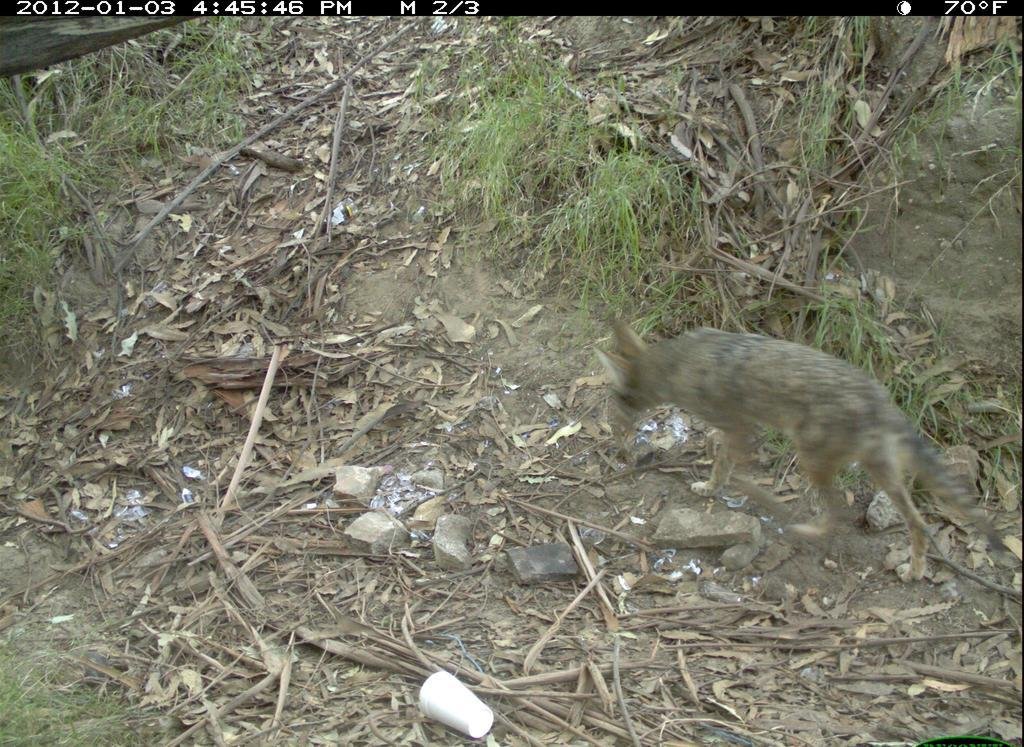coyote: (610, 319, 990, 597)
